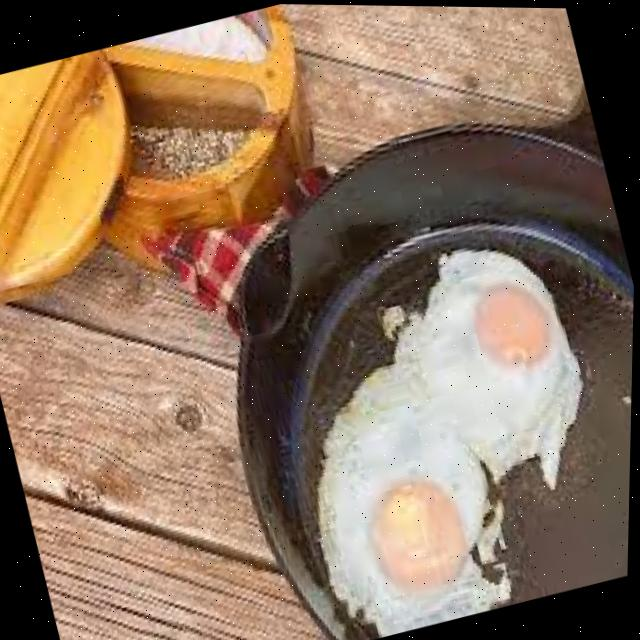Egg: (320, 249, 583, 633)
